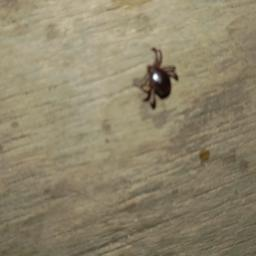Rhipicephalus sanguineus: (133, 48, 180, 111)
